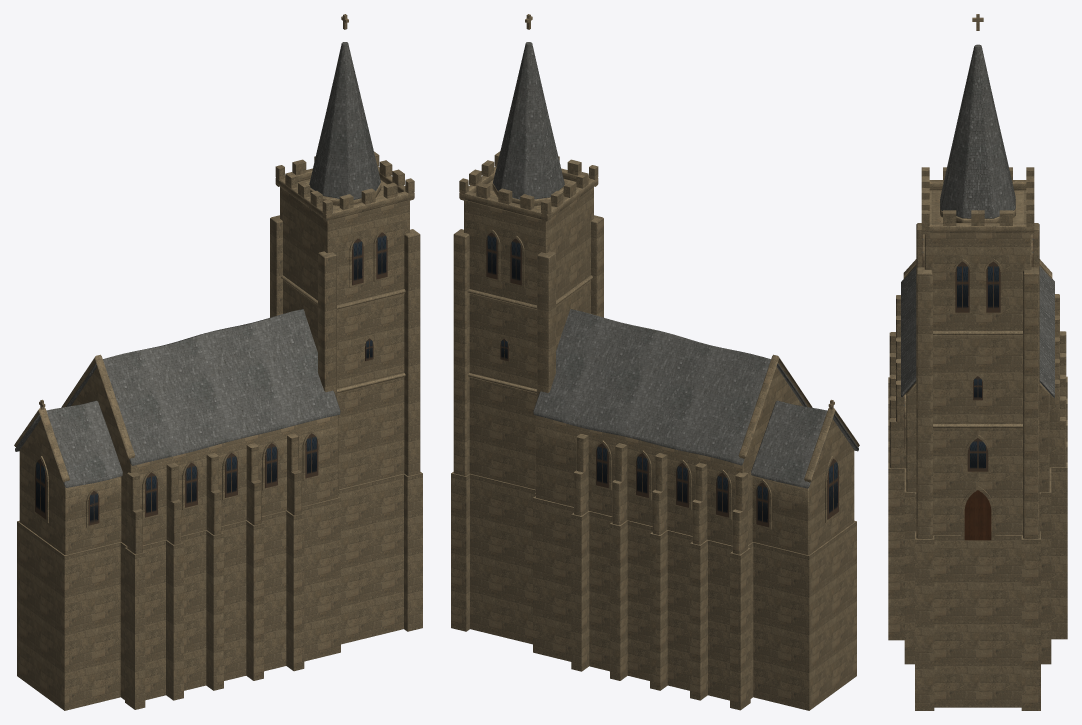
File: church_tower.glb
3 renders of one model, left to right at view 1: azimuth 30°, elevation 25°; view 2: azimuth 150°, elevation 25°; view 3: azimuth 270°, elevation 25°, orthographic. The views are drawn at different scales.
Visible parts, largest first — view 1: church_tower_export; view 2: church_tower_export; view 3: church_tower_export.
Boxes of the visible parts, <box> form: church_tower_export: <box>14,14,422,710</box>; church_tower_export: <box>451,14,859,710</box>; church_tower_export: <box>888,14,1067,710</box>.
Size of the model in its own units: 44 by 71.4 by 17.34.
Materials: 4 (4 with a texture image).
